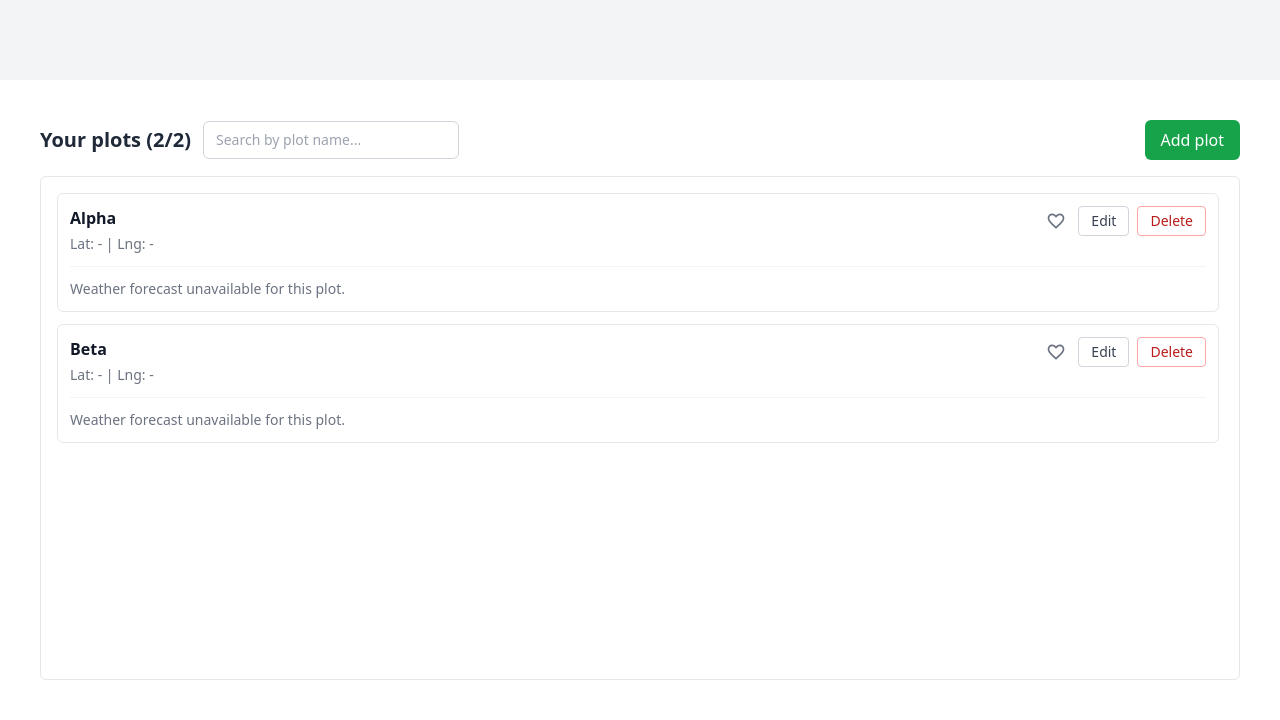
Test case: HomePage › moves selected default plot to dedicated top section
Step 1. Click the button named "set alpha as default plot" → x=1056, y=221, box [1042,206,1070,236]
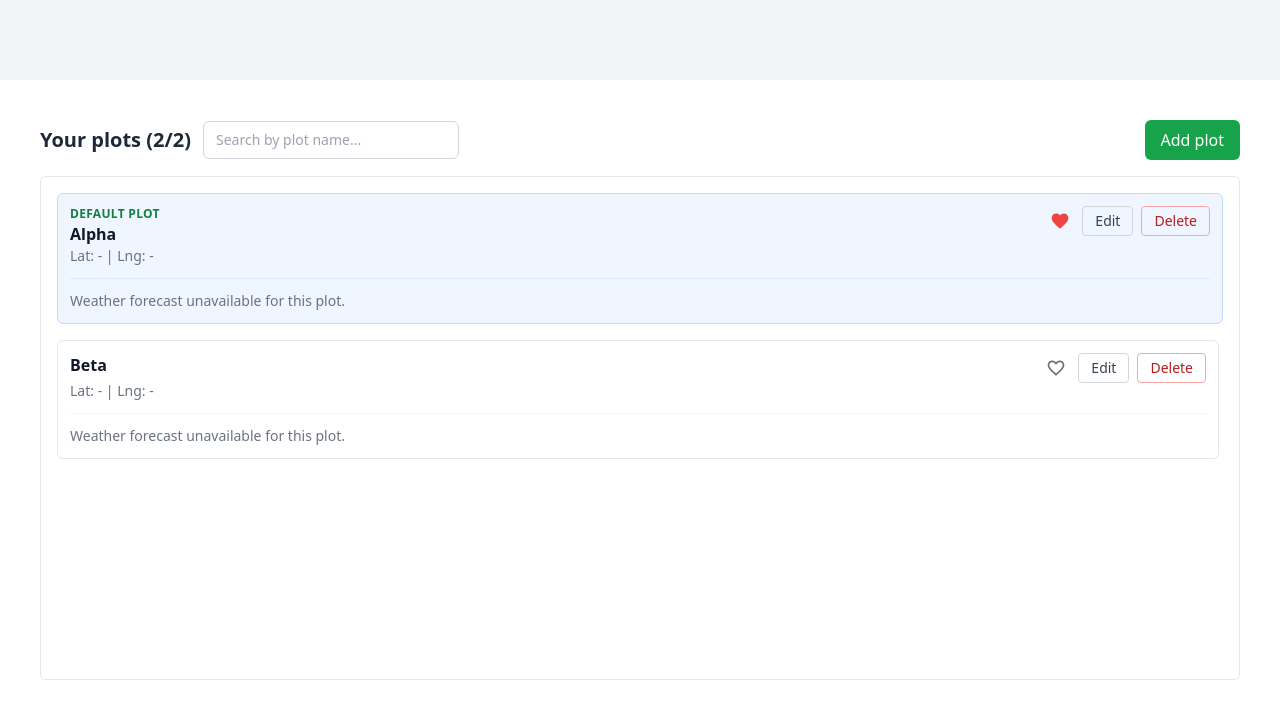
Expected: the heading "Your plots (2/2)" is shown, [40,126,191,154]
Result: the text "Default plot" is shown at [70,206,160,222]
Result: the button named "remove alpha as default plot" is shown at [1046,206,1074,236]
